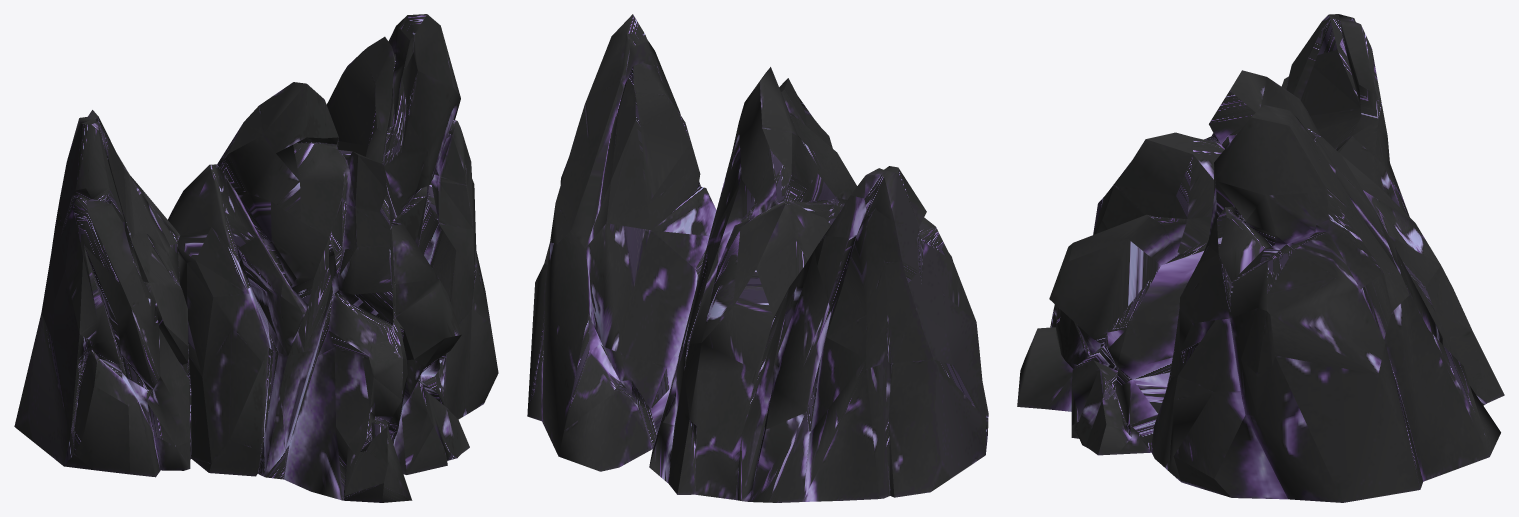
Rendered from cover_half_caves_v6.glb.
3 views of the same model, side by side, from view 1: azimuth 30°, elevation 25°; view 2: azimuth 150°, elevation 25°; view 3: azimuth 270°, elevation 25° (orthographic). The views are drawn at different scales.
Parts seen in each view (by area): view 1: Mesh_0; view 2: Mesh_0; view 3: Mesh_0.
Part boxes in pixels (bbox=[...]): Mesh_0: bbox=[14, 14, 498, 502]; Mesh_0: bbox=[527, 14, 988, 502]; Mesh_0: bbox=[1017, 14, 1504, 502].
Size of the model in its own units: 0.96 by 0.8 by 0.95.
Materials: 1 (1 with a texture image).
